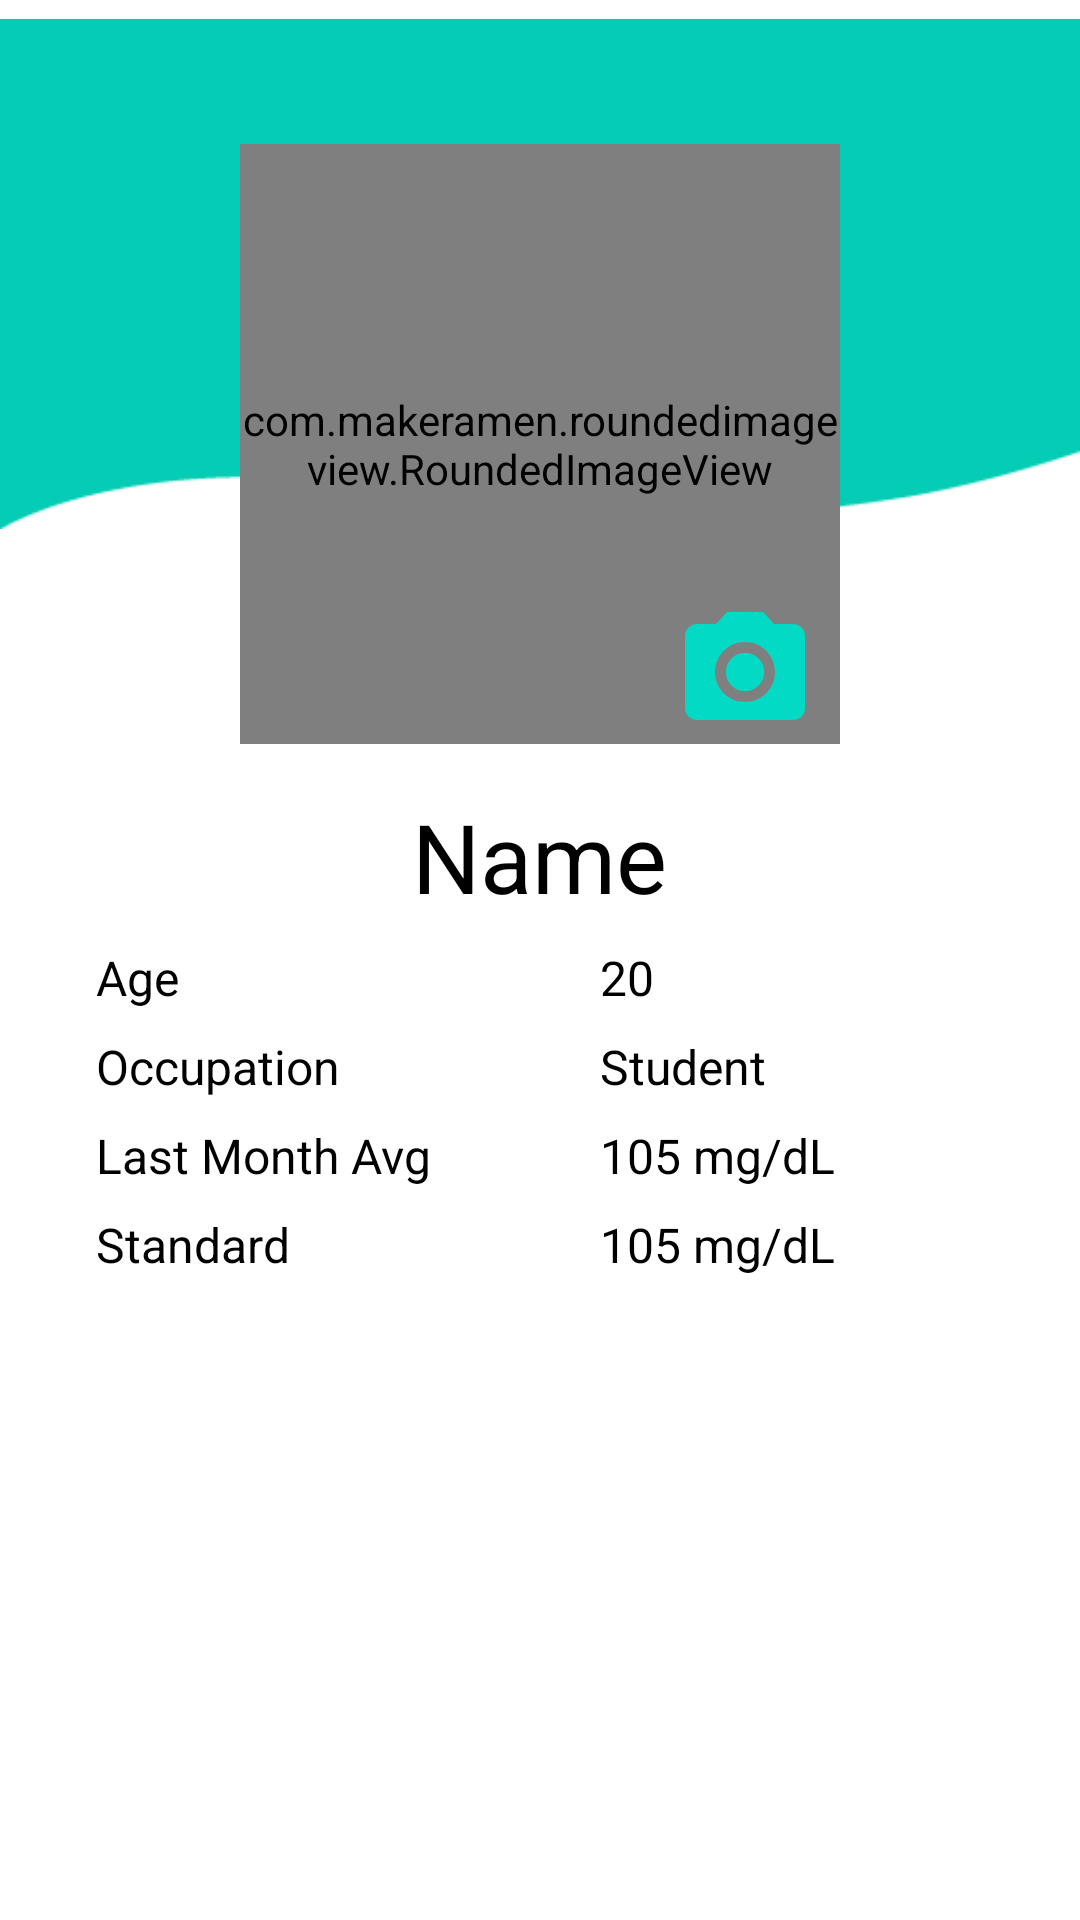

Named icons in this screenshot (1080w x 1920h) and their centers, point (x, y):
camera: point (745, 666)
